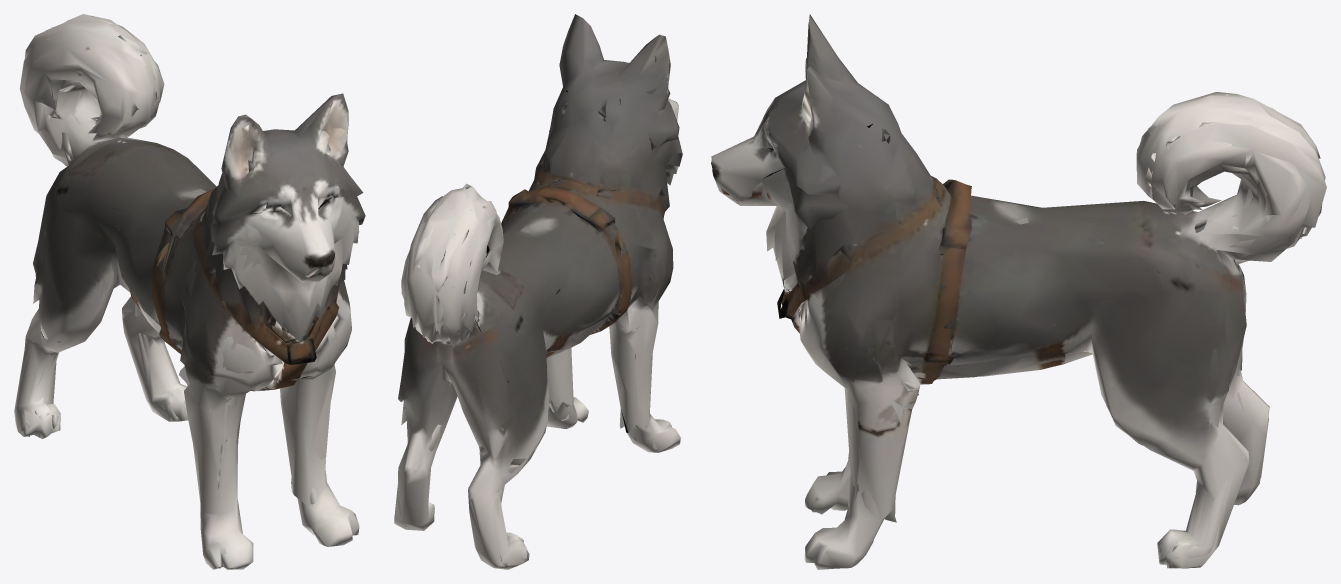
Rendered from detail_7_lo.glb.
The picture shows the model from 3 angles, left to right: view 1: azimuth 30°, elevation 25°; view 2: azimuth 150°, elevation 25°; view 3: azimuth 270°, elevation 25°; orthographic projection. The views are drawn at different scales.
Parts seen in each view (by area): view 1: Mesh_0.001; view 2: Mesh_0.001; view 3: Mesh_0.001.
Part boxes in pixels (box(x1,y1,x2,y2)): Mesh_0.001: box(14, 14, 365, 569); Mesh_0.001: box(394, 14, 682, 569); Mesh_0.001: box(711, 14, 1326, 569).
Size of the model in its own units: 0.3277 by 0.8775 by 0.996.
1 material, 1 textured.
